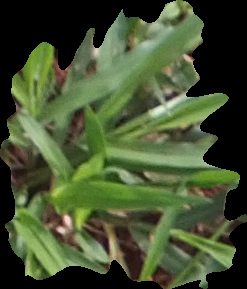grass: (1, 2, 246, 287)
